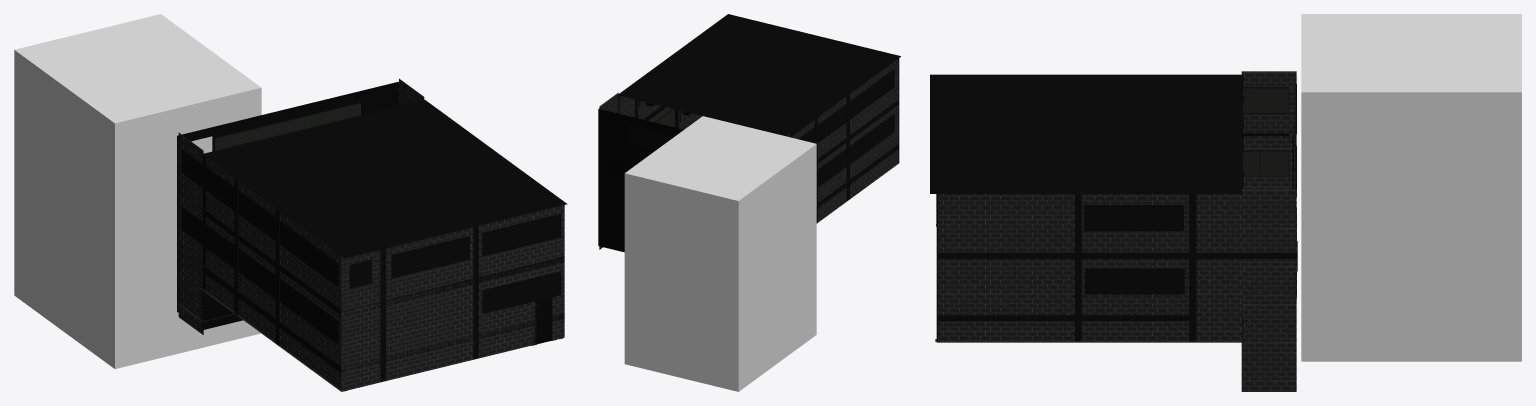
Rendered from TrackingLabModel.FBX.
The picture shows the model from 3 angles, left to right: view 1: azimuth 30°, elevation 25°; view 2: azimuth 150°, elevation 25°; view 3: azimuth 270°, elevation 25°; orthographic projection. The views are drawn at different scales.
Parts seen in each view (by area): view 1: Office, Ceiling, Back Wall, Plane003, Plane060, Plane059, Box321, Box322, Horizontal Beam BW (×2), Horizontal Beam RW (×2), Box186, Box095 (+6 smaller); view 2: Office, Ceiling, Plane003, Plane059, Box322, Box321, Horizontal Beam RW (×2), RW, Box647, Vert Beam RW; view 3: Office, Ceiling, RW, Plane061, Plane060, Box212, Box220, Vert Beam LW (×2), Hi Beam LW, Low Beam LW.
Boxes of the visible parts, box(x1,y1,x2,y2) form: Office: box(14, 14, 261, 368); Ceiling: box(202, 100, 567, 258); Back Wall: box(341, 205, 564, 391); Plane003: box(182, 149, 341, 389); Plane060: box(178, 132, 203, 334); Plane059: box(177, 81, 398, 312); Box321: box(206, 224, 338, 344); Box322: box(206, 167, 338, 286); Horizontal Beam BW (×2): box(340, 256, 564, 373); Horizontal Beam RW (×2): box(202, 208, 341, 372); Box186: box(482, 213, 561, 256); Box095: box(482, 271, 561, 313); Office: box(624, 116, 816, 391); Ceiling: box(618, 14, 900, 137); Plane003: box(791, 59, 897, 221); Plane059: box(598, 109, 683, 252); Box322: box(798, 69, 894, 143); Box321: box(818, 113, 894, 187); Horizontal Beam RW (×2): box(816, 100, 898, 208); RW: box(619, 96, 702, 129); Box647: box(629, 125, 674, 149); Vert Beam RW: box(846, 94, 849, 200); Office: box(1301, 14, 1521, 361); Ceiling: box(930, 74, 1242, 193); RW: box(938, 194, 1242, 341); Plane061: box(1241, 189, 1296, 391); Plane060: box(1241, 71, 1296, 189); Box212: box(1084, 268, 1184, 294); Box220: box(1084, 205, 1183, 231); Vert Beam LW (×2): box(1074, 192, 1196, 341); Hi Beam LW: box(938, 252, 1242, 258); Low Beam LW: box(938, 315, 1188, 321).
Bounding box in the file's own units: 1510 × 1251 × 2492.
12 materials, 7 textured.
